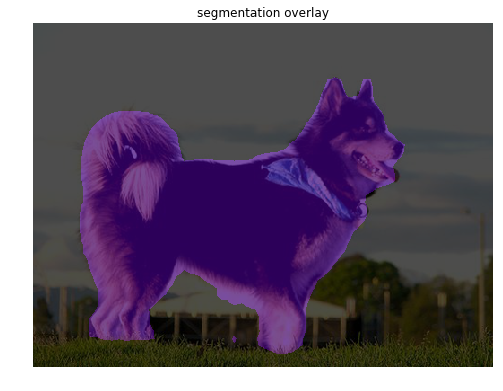unlabelled: (38, 22, 489, 366)
